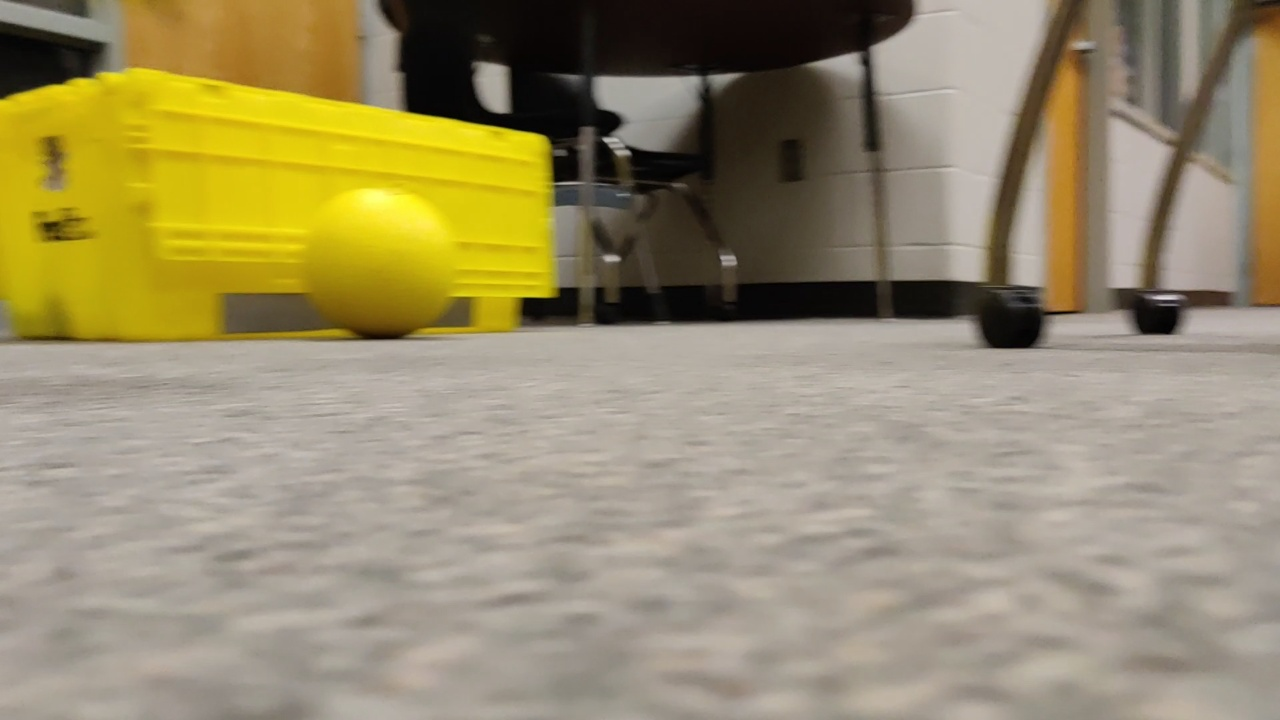Ball: (308, 184, 459, 338)
